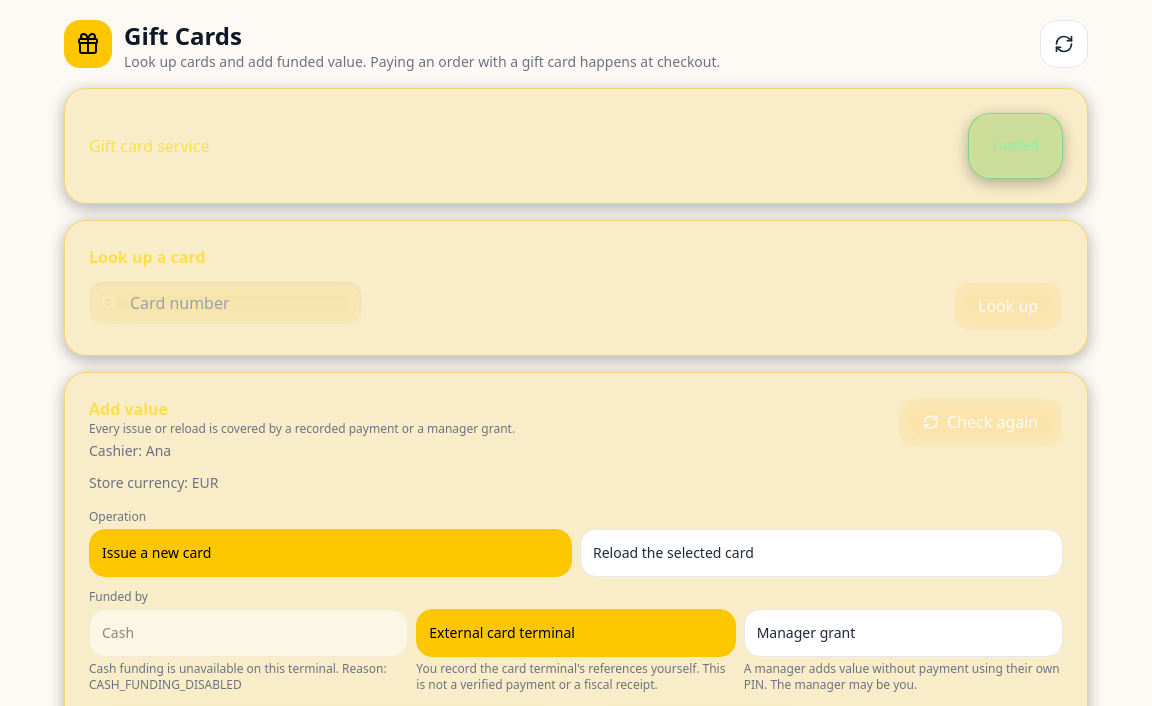
Test: GiftCardsPage › lets an ordinary cashier reach manager authorization while cash stays unavailable
Expected: the radio button labelled "Cash" is disabled, [89,609,408,657]
Click the radio button labelled "Manager grant".
click(806, 632)  # box [744,609,1063,657]
(page scrolled)
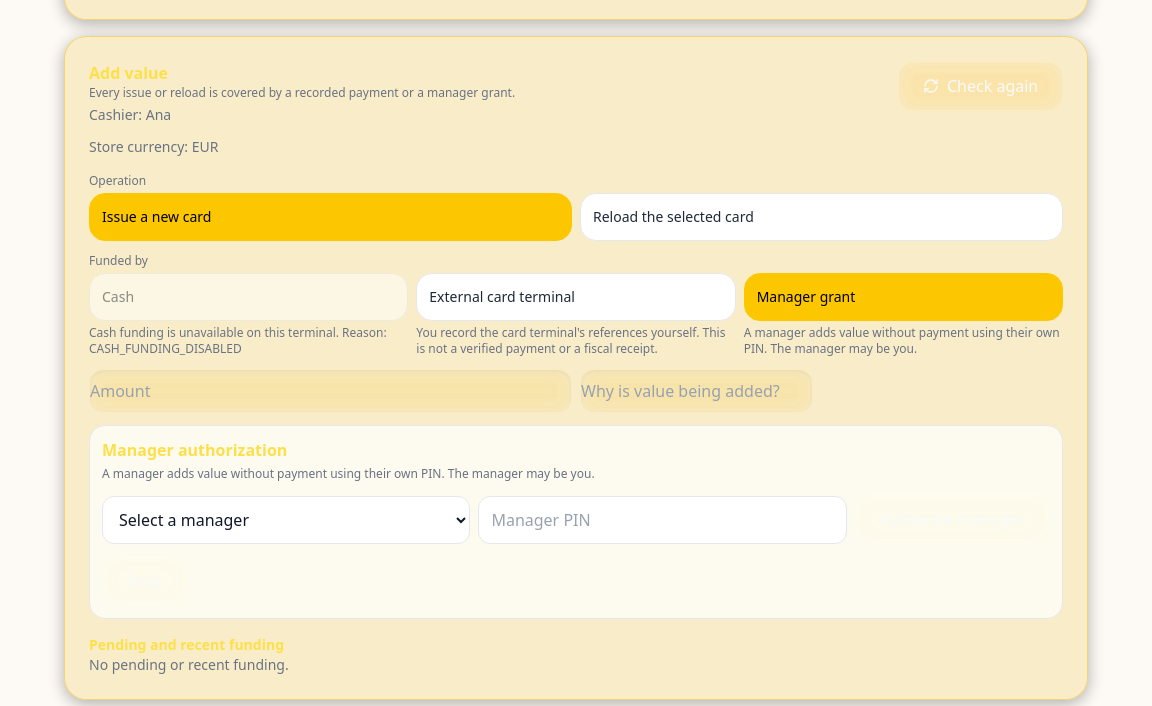
Expected: the password field labelled "Manager PIN" is shown, [478,496,847,544]
